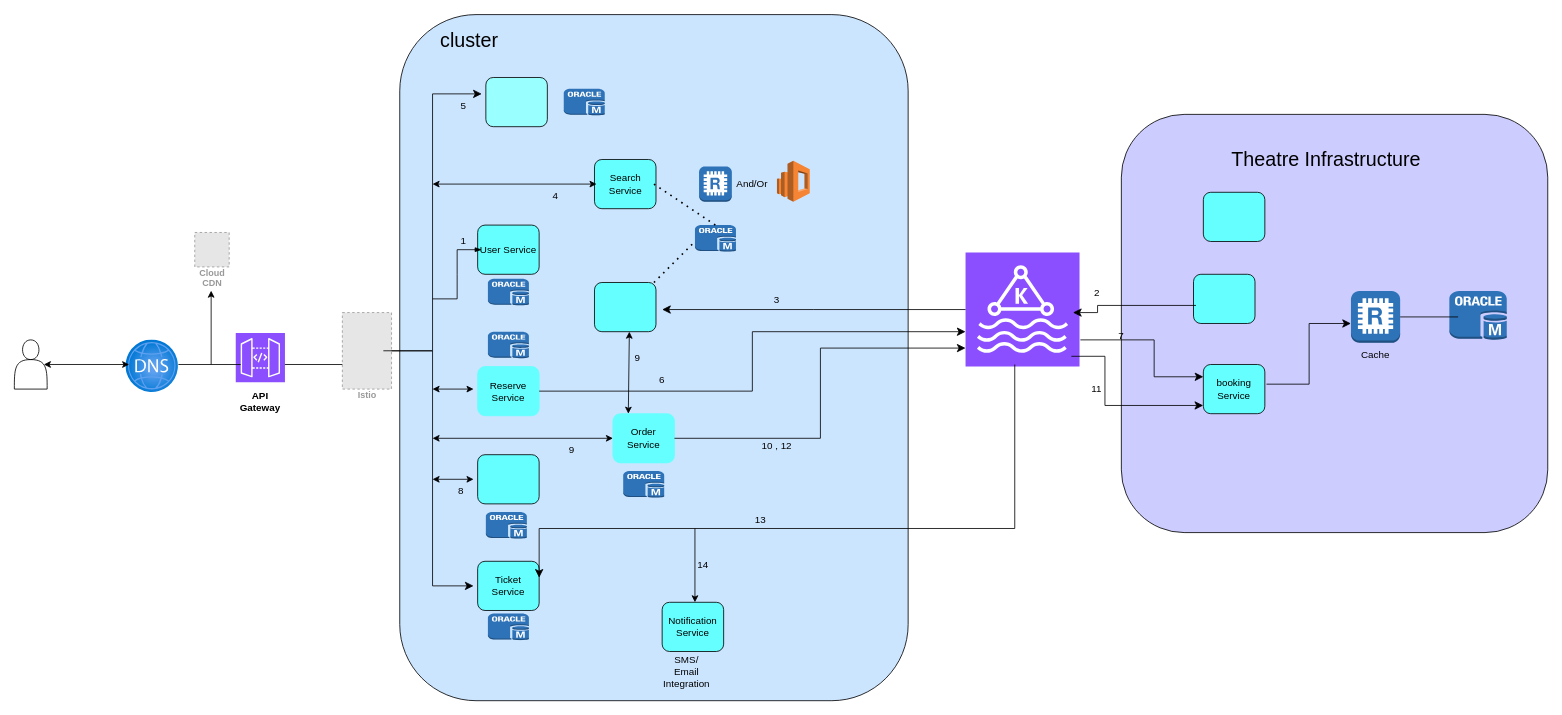
This 1562x715 diagram has some shape labels left out. Grey dashed boxes stand in for pictures. Each missing label, with the centre of its shape:
"Cart Service" belongs at point 516,102.
"Feed/Updates Service" belongs at point 1224,298.
"Onboard Service" belongs at point 625,307.
"Payment Service" belongs at point 508,479.
"XXXX" belongs at point 1234,216.
